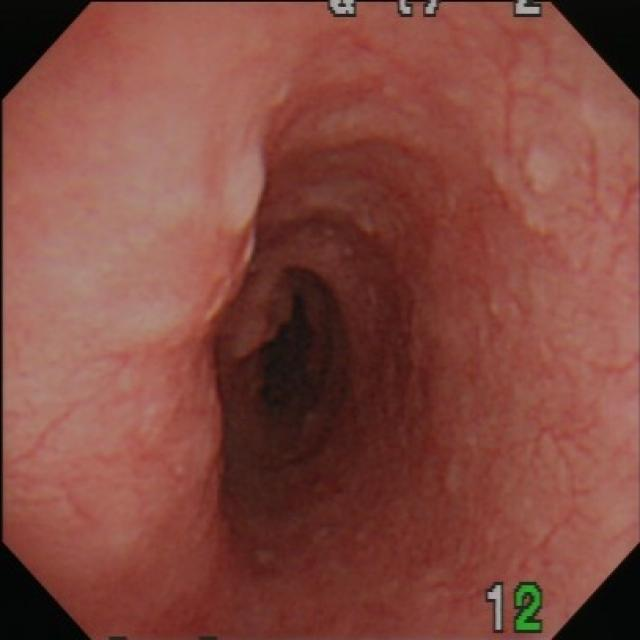A: (402, 125, 558, 296), (349, 318, 437, 480)
B: (136, 131, 264, 330), (223, 263, 297, 359)
E: (256, 282, 339, 439)
S: (485, 581, 547, 636), (325, 3, 545, 18)
